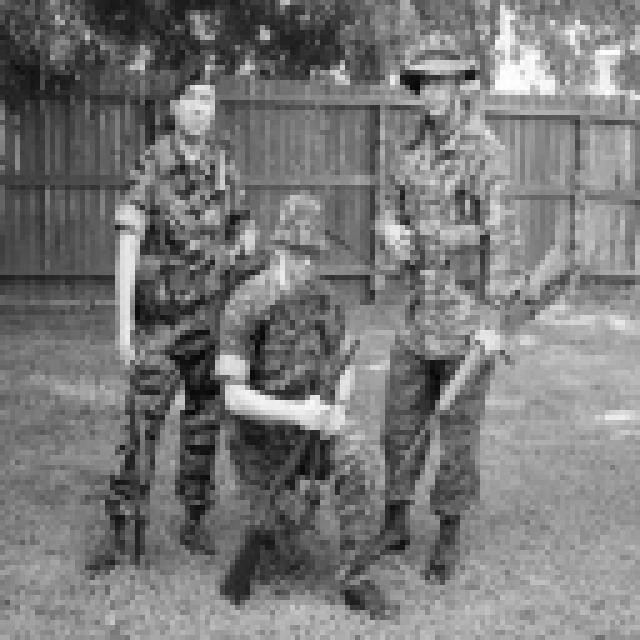Rifle: (229, 290, 393, 636), (410, 228, 579, 505), (104, 310, 188, 610)
